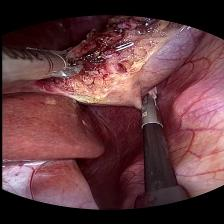Clipper: (22, 44, 86, 80)
Grasper: (136, 92, 163, 130)
